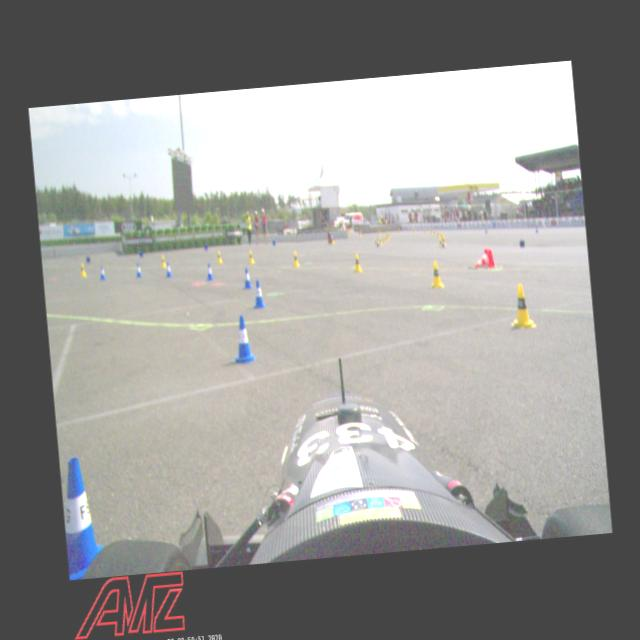blue_cone: (58, 454, 106, 579), (230, 313, 256, 365), (250, 278, 266, 310), (241, 266, 252, 289), (204, 262, 213, 280), (98, 264, 106, 281), (134, 262, 142, 278), (165, 260, 172, 278), (440, 238, 444, 248)
orange_cone: (472, 247, 494, 269)
yellow_cone: (506, 282, 536, 331), (427, 259, 444, 289), (352, 252, 362, 272), (291, 250, 299, 266), (247, 248, 254, 266), (78, 261, 85, 277), (160, 254, 167, 268), (215, 250, 222, 263), (438, 237, 442, 247)
